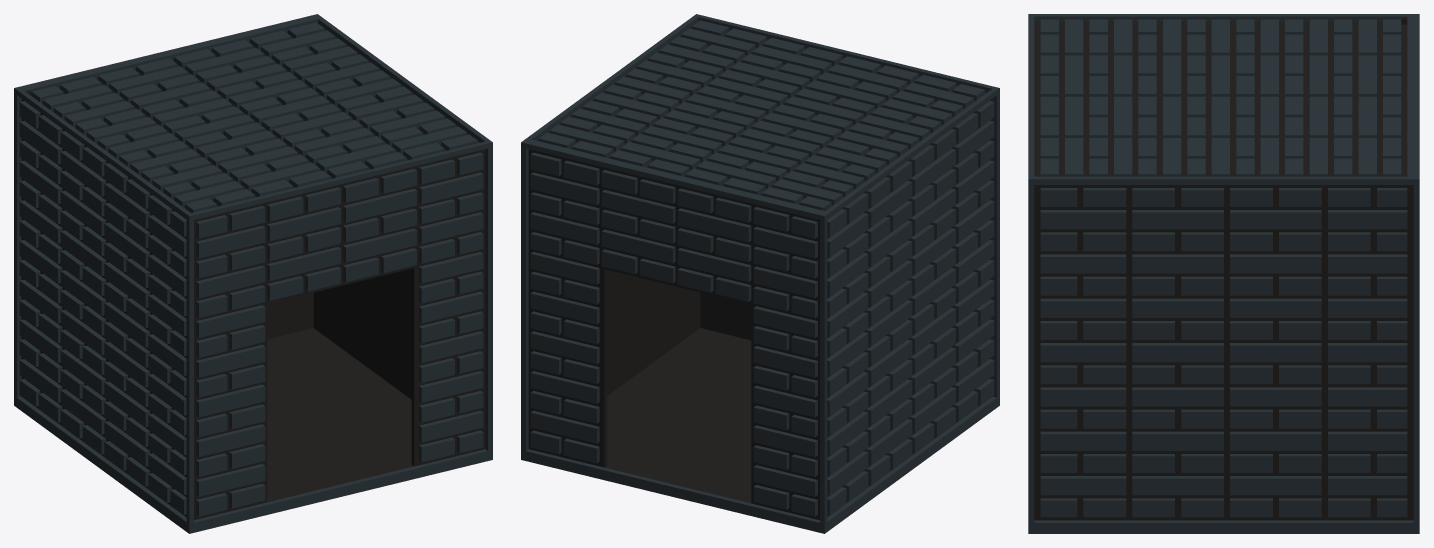
File: tower_middle_through.obj
3 views of the same model, side by side, from view 1: azimuth 30°, elevation 25°; view 2: azimuth 150°, elevation 25°; view 3: azimuth 270°, elevation 25° (orthographic). The views are drawn at different scales.
Size of the model in its own units: 6.4 by 6.4 by 6.4.
1 material, 1 textured.
